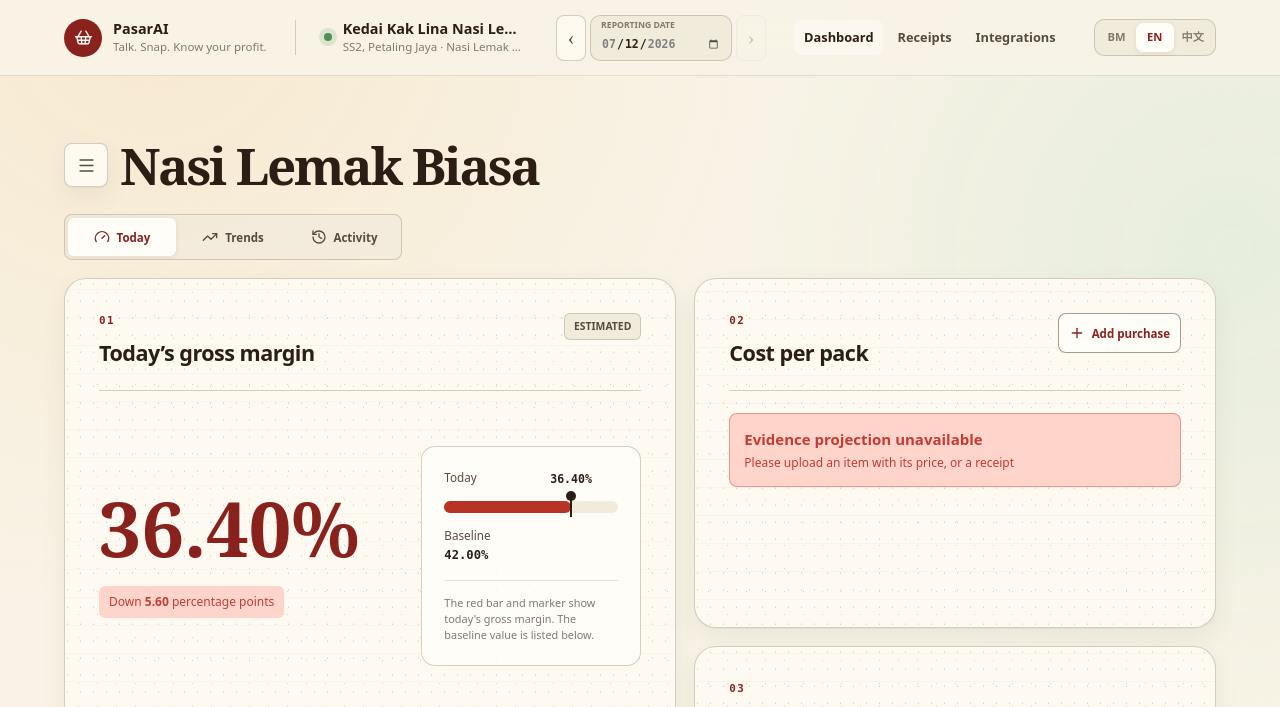
Test: merchant dashboard › localizes the missing cost data prompt for every supported language
Check: the text "Please upload an item with its price, or a receipt" is shown, box [744,454,1014,471]
What coordinates should you click on to do the following:
click the button "BM"
I would click on:
 (1117, 38)
Its box is [1098,23,1136,52].
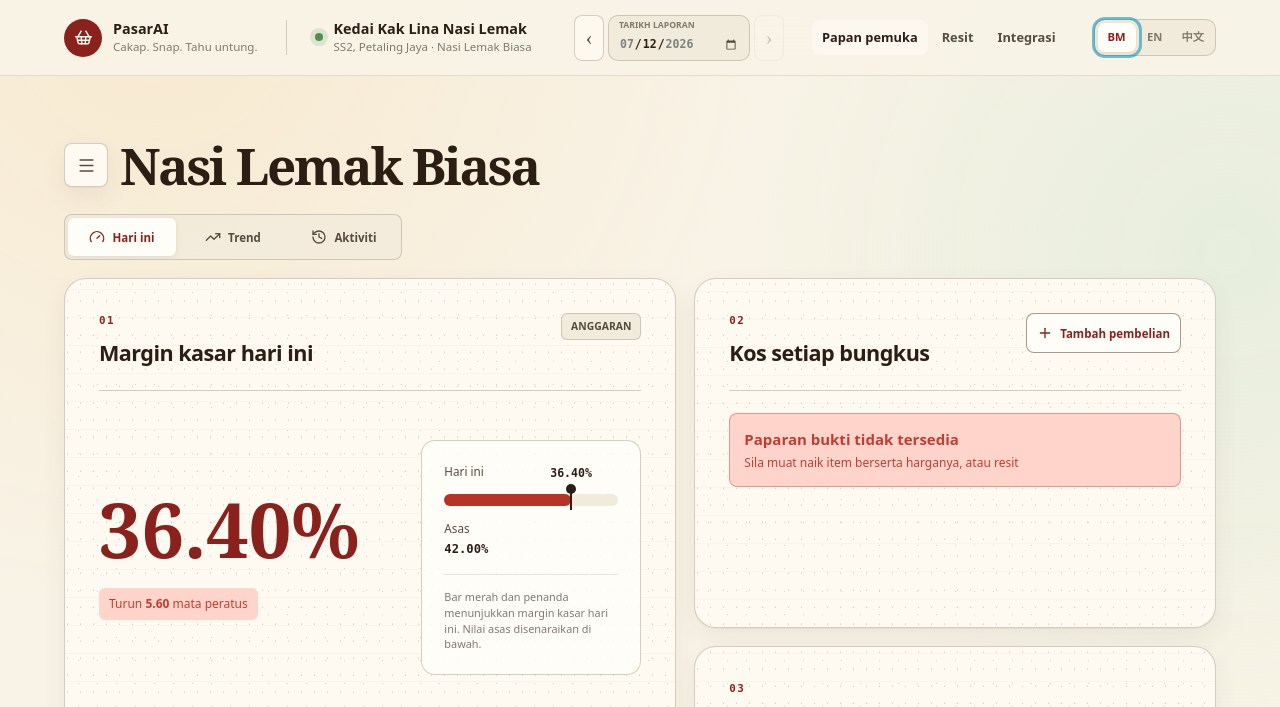
Check: the text "Sila muat naik item berserta harganya, atau resit" is shown, box [744,454,1019,471]
What coordinates should you click on to do the following:
click the button "中文"
I would click on:
 (1193, 38)
Its box is [1174,23,1212,52].
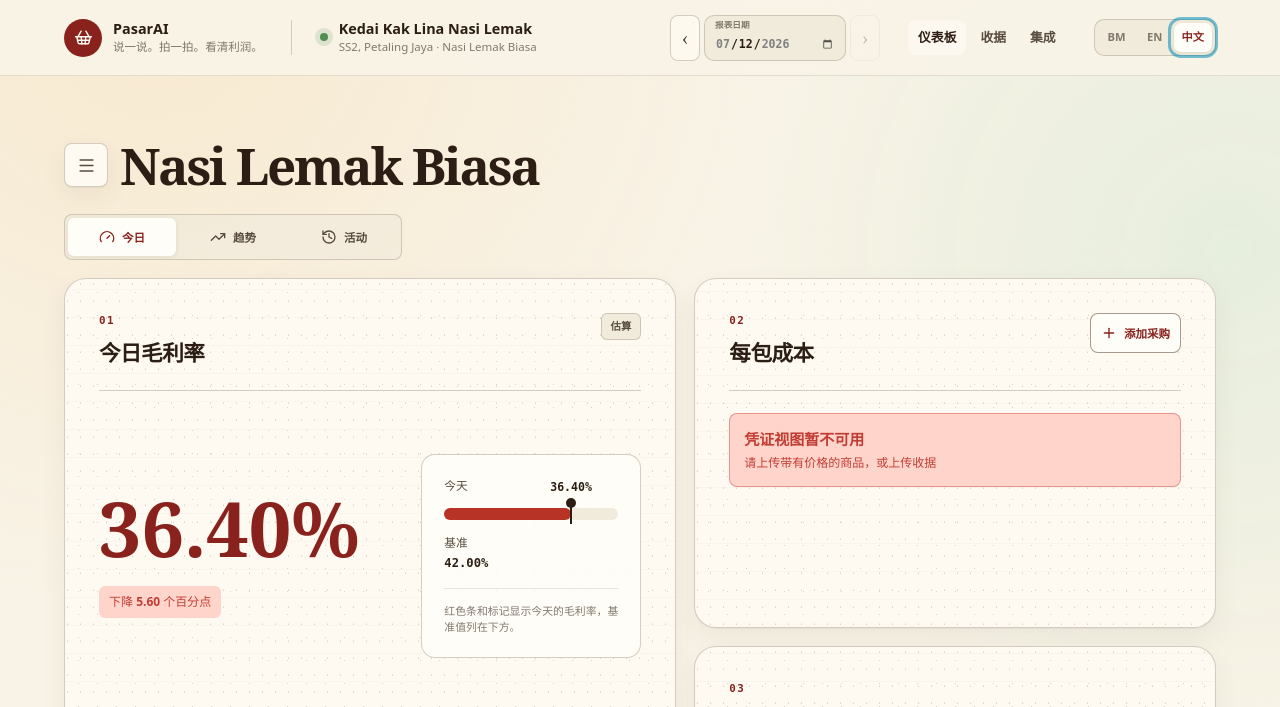
Check: the text "请上传带有价格的商品，或上传收据" is shown, box [744,454,936,471]
